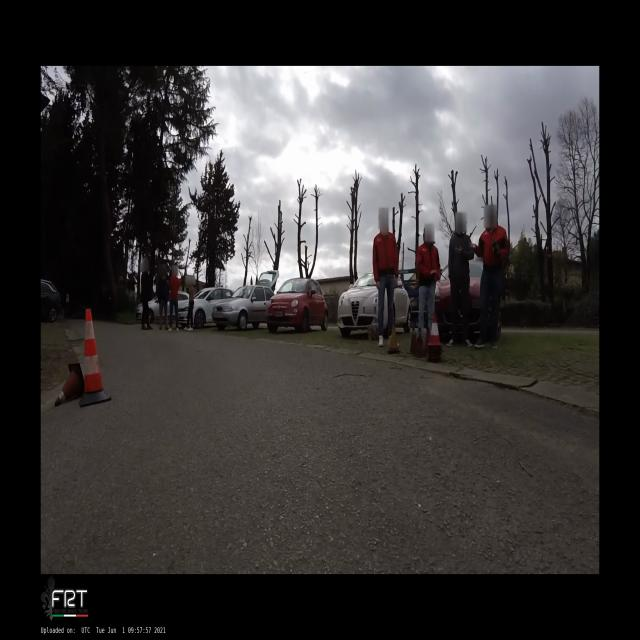large_orange_cone: (79, 308, 112, 406)
orange_cone: (428, 315, 442, 346)
unknown_cone: (54, 362, 84, 407), (406, 326, 417, 354), (389, 324, 399, 347)
